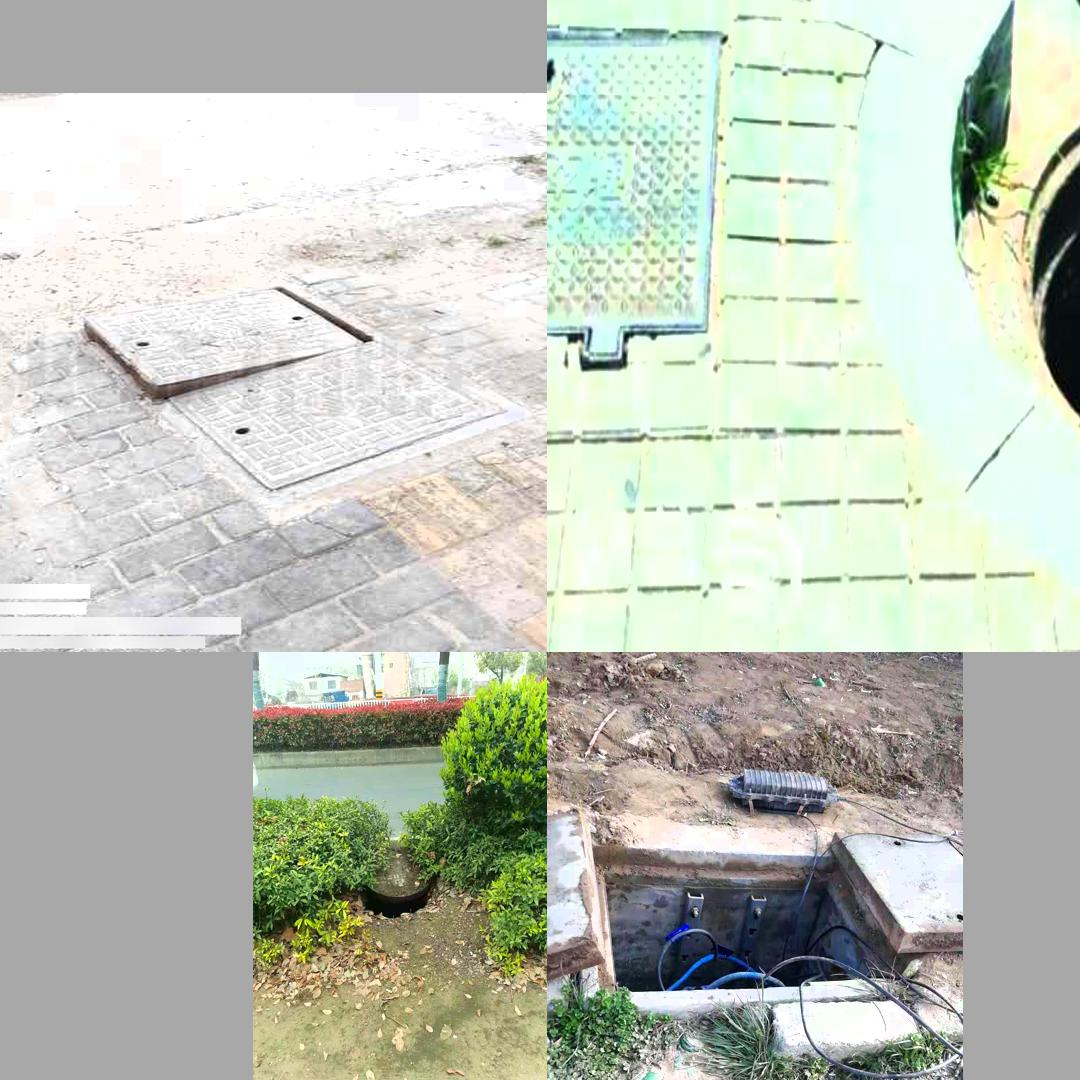uncovered: (72, 280, 528, 500), (547, 807, 958, 1006), (1007, 0, 1080, 522), (360, 852, 437, 920)
